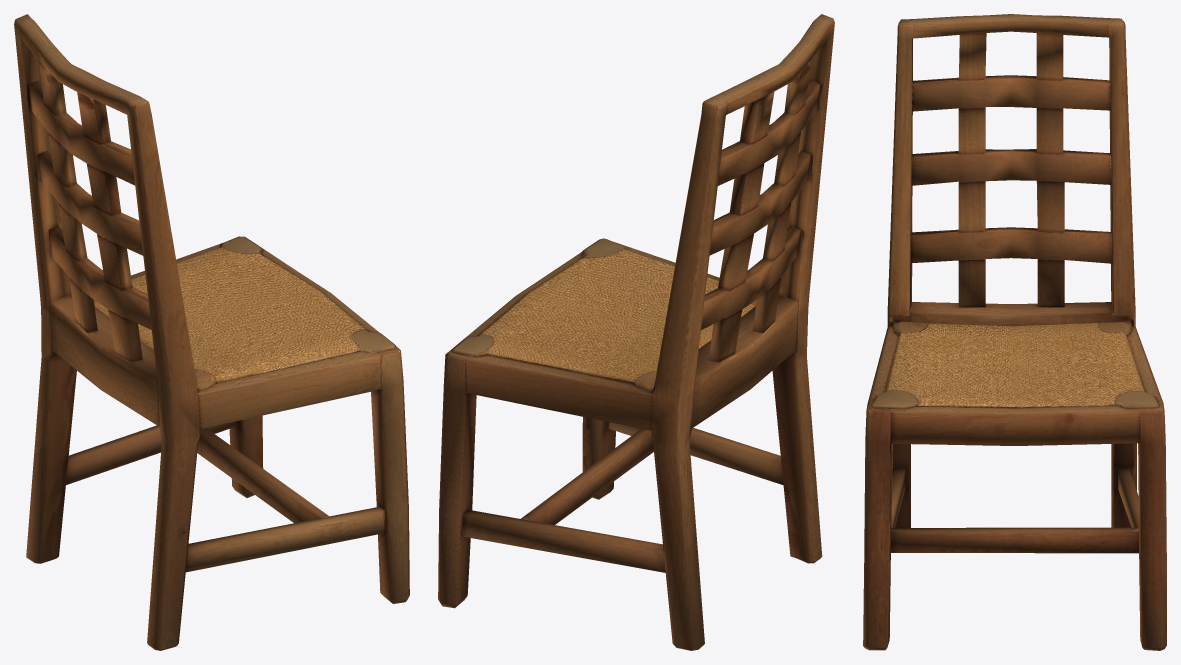
3 renders of one model, left to right at view 1: azimuth 30°, elevation 25°; view 2: azimuth 150°, elevation 25°; view 3: azimuth 270°, elevation 25°, orthographic. The views are drawn at different scales.
Parts seen in each view (by area): view 1: tripo_node_de8e5274-4043-4392-a293-04cb61cd23ca; view 2: tripo_node_de8e5274-4043-4392-a293-04cb61cd23ca; view 3: tripo_node_de8e5274-4043-4392-a293-04cb61cd23ca.
Boxes of the visible parts, x1,y1,x2,y2 form: tripo_node_de8e5274-4043-4392-a293-04cb61cd23ca: (14, 14, 409, 650); tripo_node_de8e5274-4043-4392-a293-04cb61cd23ca: (438, 14, 834, 650); tripo_node_de8e5274-4043-4392-a293-04cb61cd23ca: (863, 14, 1166, 650).
Size of the model in its own units: 0.5293 by 0.998 by 0.5332.
Materials: 1 (1 with a texture image).
